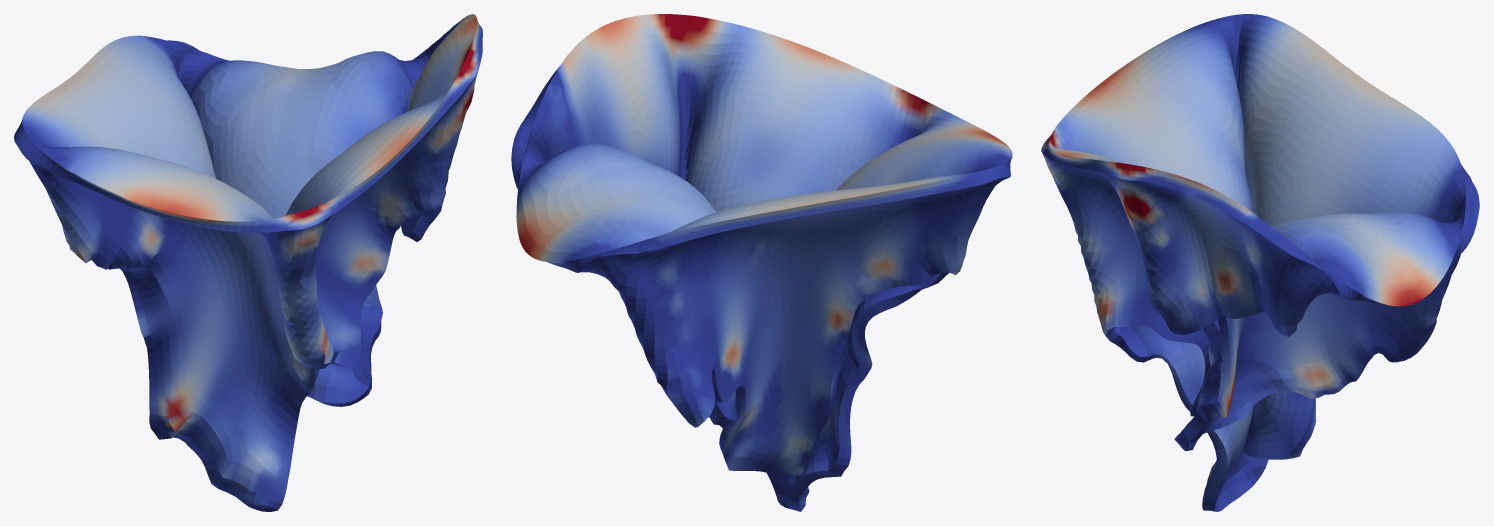
3 views of the same model, side by side, from view 1: azimuth 30°, elevation 25°; view 2: azimuth 150°, elevation 25°; view 3: azimuth 270°, elevation 25° (orthographic). The views are drawn at different scales.
Parts seen in each view (by area): view 1: OCS14_maxS_16; view 2: OCS14_maxS_16; view 3: OCS14_maxS_16.
Part boxes in pixels (x1,y1,x2,y2): OCS14_maxS_16: [14, 14, 482, 511]; OCS14_maxS_16: [511, 14, 1012, 511]; OCS14_maxS_16: [1041, 14, 1479, 511].
Bounding box in the file's own units: 1.4 × 1.29 × 1.21.
